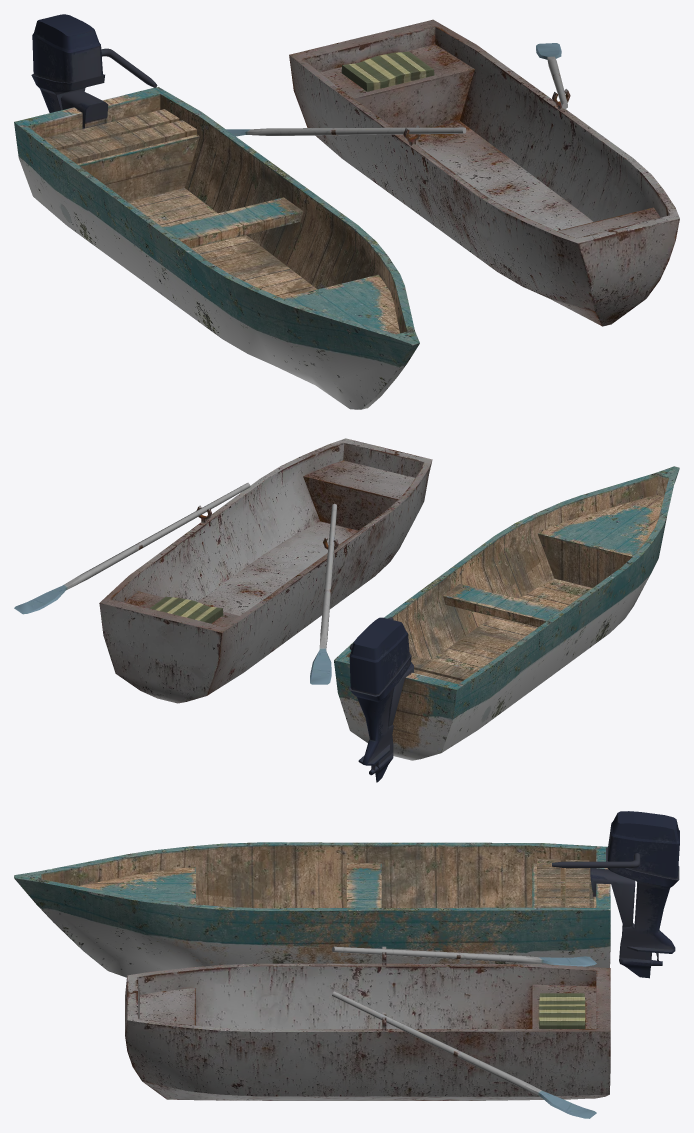
Rendered from boats.glb.
3 views of the same model, one above another, from view 1: azimuth 30°, elevation 25°; view 2: azimuth 150°, elevation 25°; view 3: azimuth 270°, elevation 25° (orthographic). The views are drawn at different scales.
Parts seen in each view (by area): view 1: Cube, Cube.002, Cube.001; view 2: Cube, Cube.002, Cube.001; view 3: Cube, Cube.002, Cube.001.
Part boxes in pixels (x1,y1,x2,y2): Cube: [14, 14, 570, 409]; Cube.002: [289, 19, 679, 326]; Cube.001: [226, 43, 567, 136]; Cube: [150, 466, 679, 782]; Cube.002: [99, 438, 432, 703]; Cube.001: [14, 482, 337, 684]; Cube: [14, 811, 679, 1031]; Cube.002: [125, 963, 610, 1100]; Cube.001: [332, 946, 596, 1118].
Size of the model in its own units: 4.23 by 1.34 by 5.04.
1 material, 1 textured.
